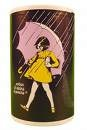grozi_27: (9, 3, 76, 127)
